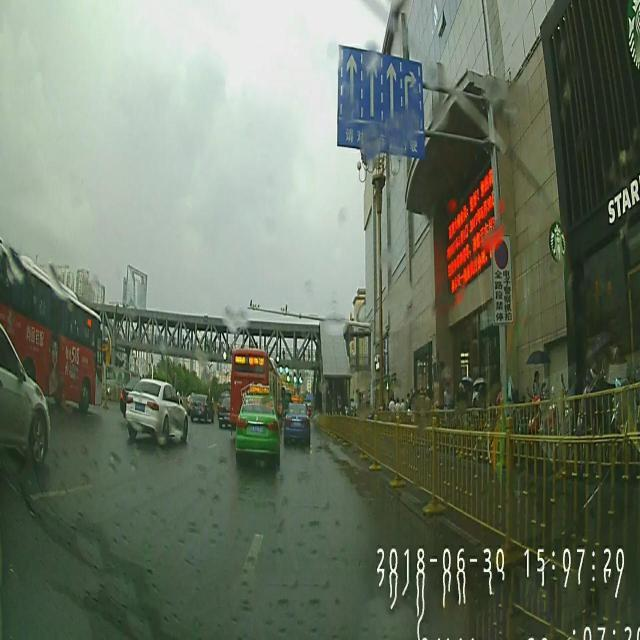car: (328, 248, 464, 523), (209, 341, 287, 444), (291, 360, 318, 414)
